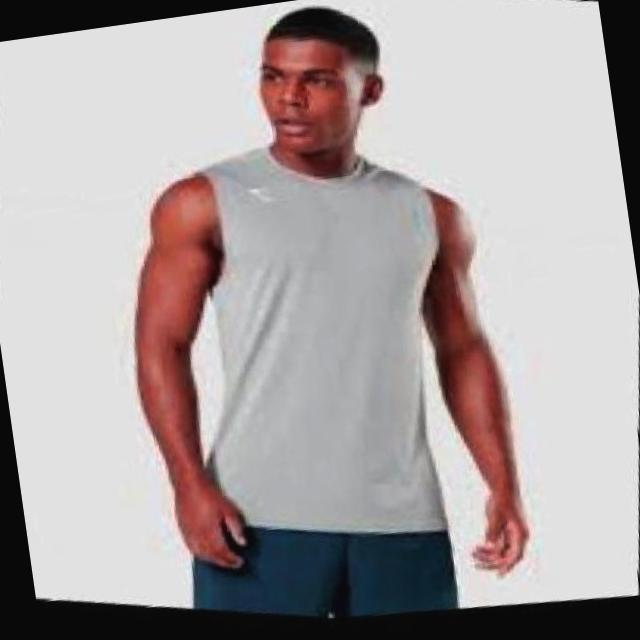no_vest: (142, 106, 500, 577)
